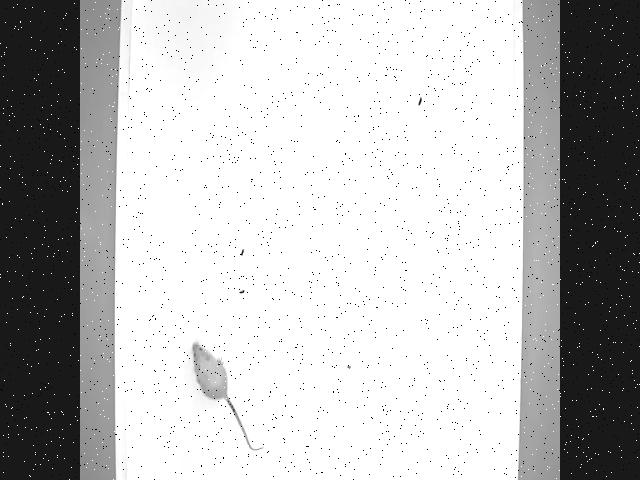Tikus: (188, 338, 266, 454)
